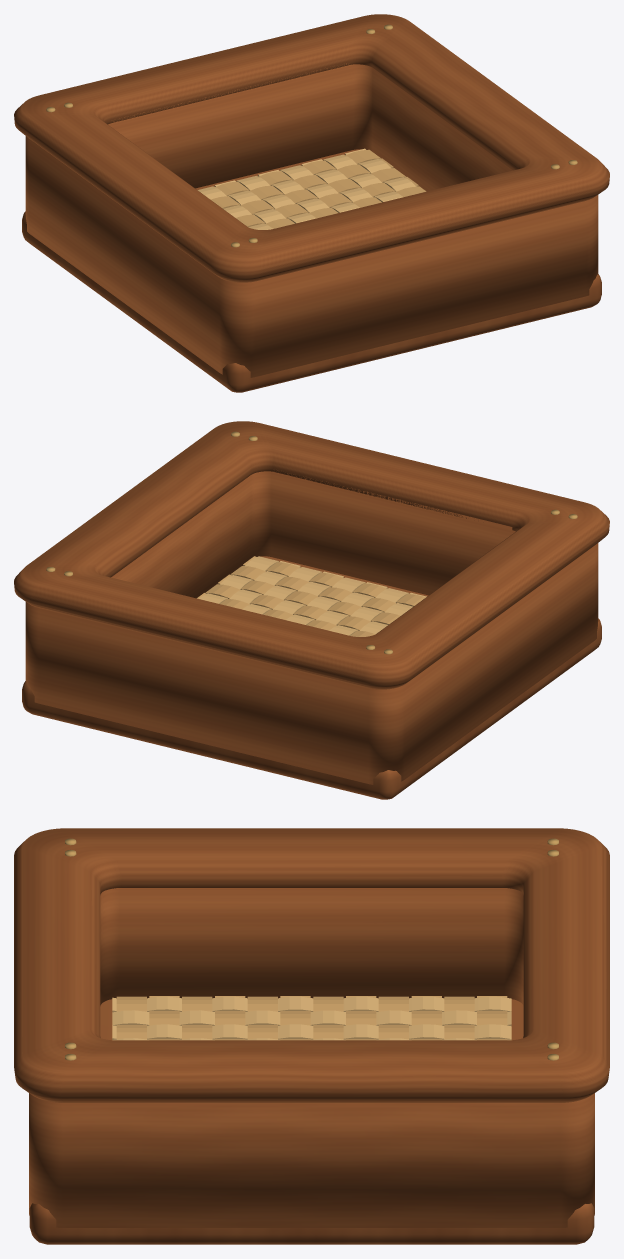
The model's file is basket_redwood.glb.
3 views of the same model, one above another, from view 1: azimuth 30°, elevation 25°; view 2: azimuth 150°, elevation 25°; view 3: azimuth 270°, elevation 25° (orthographic). The views are drawn at different scales.
Parts seen in each view (by area): view 1: wooden-shell, rolled-rim, woven-floor; view 2: wooden-shell, rolled-rim, woven-floor; view 3: wooden-shell, rolled-rim, woven-floor, brass-fasteners.
Boxes of the visible parts, x1,y1,x2,y2 form: wooden-shell: (22, 63, 601, 392); rolled-rim: (14, 14, 609, 282); woven-floor: (197, 148, 426, 229); wooden-shell: (22, 470, 601, 799); rolled-rim: (14, 421, 609, 689); woven-floor: (197, 556, 426, 636); wooden-shell: (29, 888, 594, 1244); rolled-rim: (14, 828, 609, 1102); woven-floor: (112, 996, 511, 1040); brass-fasteners: (65, 838, 558, 1060).
Size of the model in its own units: 1 by 0.3385 by 1.
5 materials, 2 textured.
